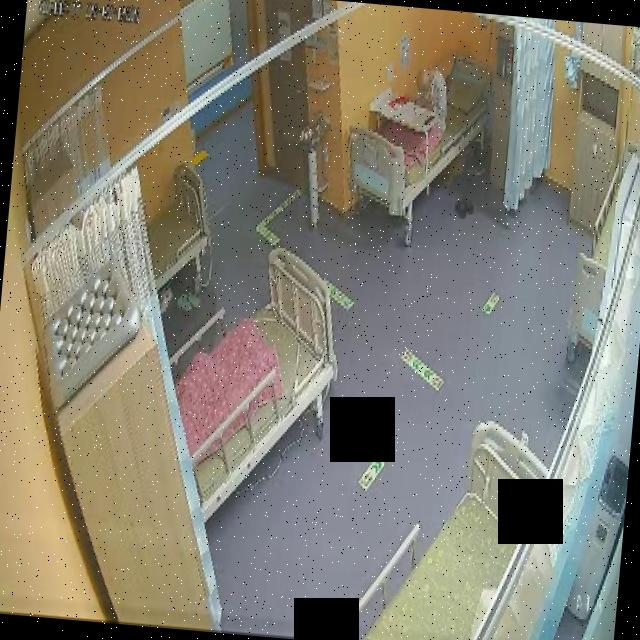bed: (164, 241, 344, 529), (329, 412, 553, 640), (340, 44, 500, 224), (140, 160, 214, 296)
patient: (408, 56, 452, 133)
sit: (409, 58, 452, 136)
